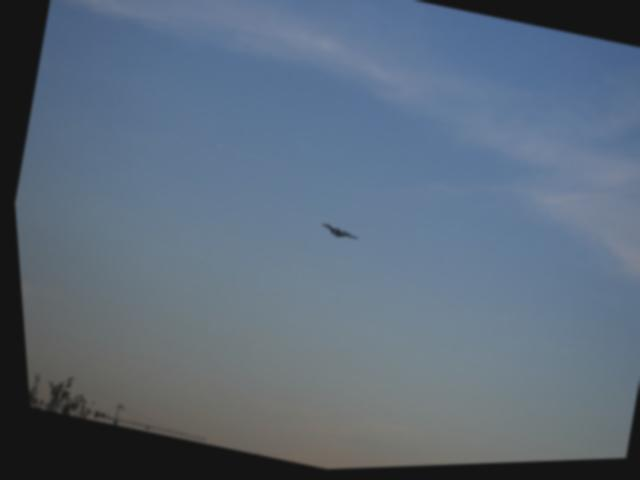plane: (315, 222, 355, 247)
